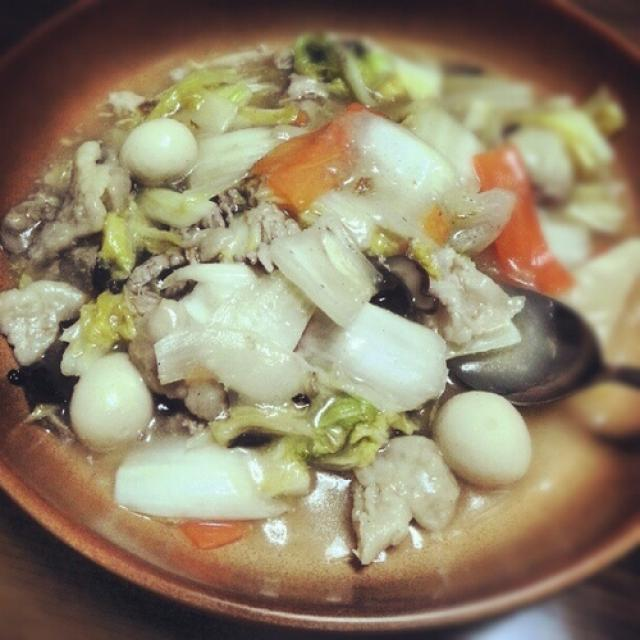面条主食: (0, 23, 480, 640)
